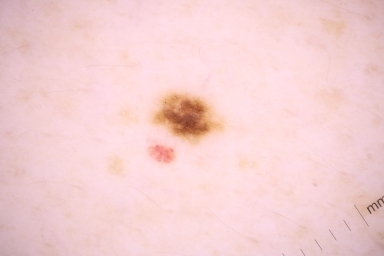melanoma: (152, 94, 218, 137)
